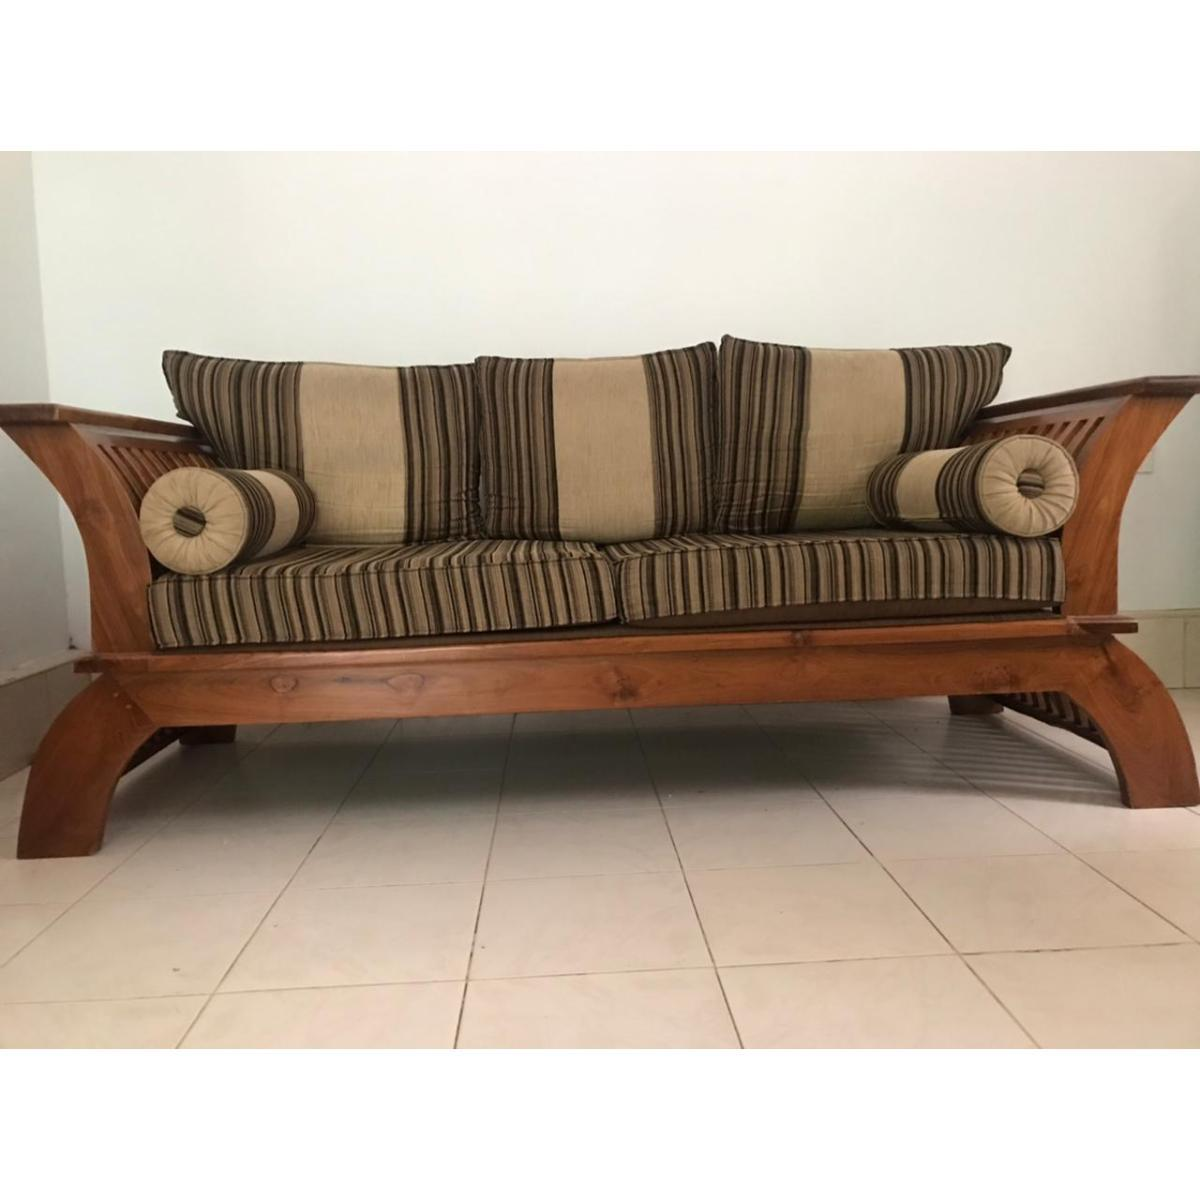Sofa: (3, 334, 1198, 861)
